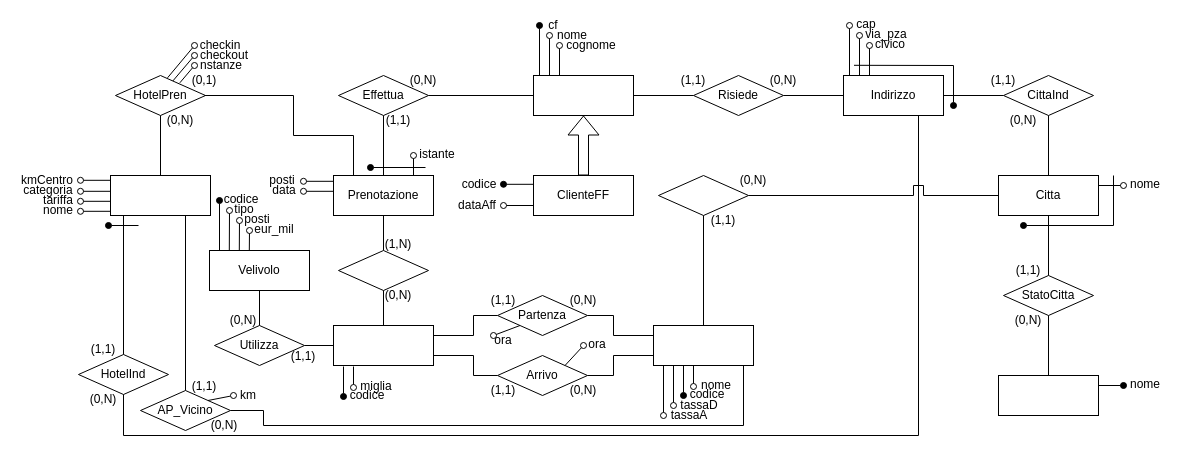
Some shapes in this 1192 by 454 pixel diagram are drawn without their labels. The shapes that lost their labels are listed below. From the top down, each one's centre as x and y in pixels, then its label:
At (x=583, y=95): "Cliente".
At (x=160, y=195): "Hotel".
At (x=703, y=195): "CittaAP".
At (x=383, y=270): "VoloPren".
At (x=383, y=345): "Volo".
At (x=703, y=345): "Aeroporto".
At (x=1048, y=395): "Stato".
